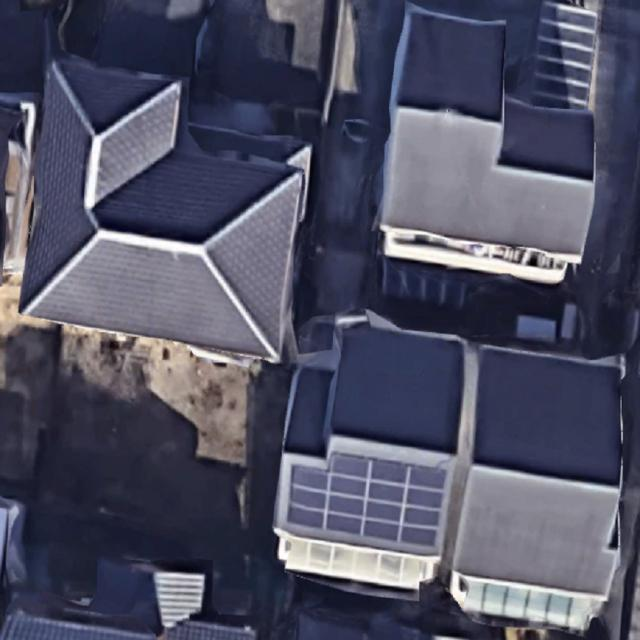Batiment: (20, 56, 310, 361), (380, 4, 592, 282), (275, 322, 476, 589), (451, 347, 621, 630)
